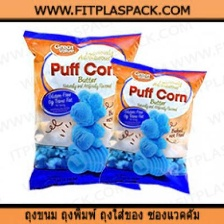snack: (18, 23, 147, 196), (93, 52, 211, 199)
